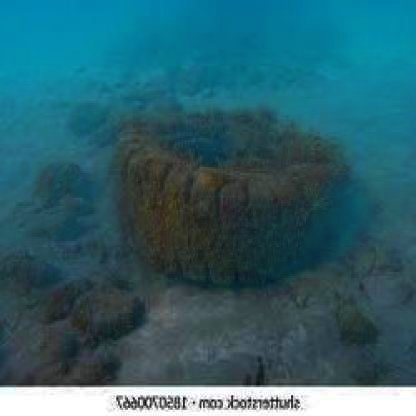tire: (122, 99, 361, 290)
